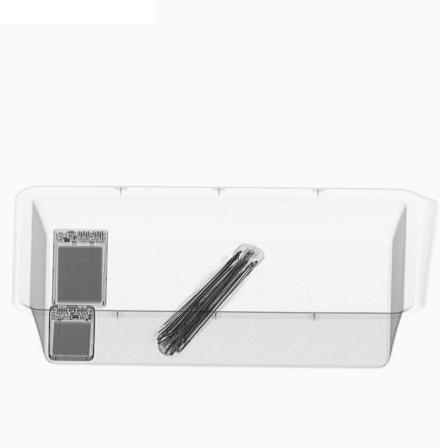Powerbank: (52, 228, 109, 308)
